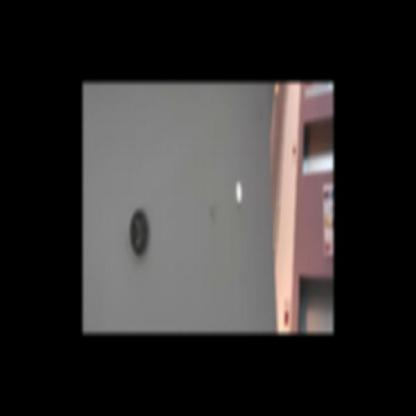light_off: (117, 188, 157, 272)
